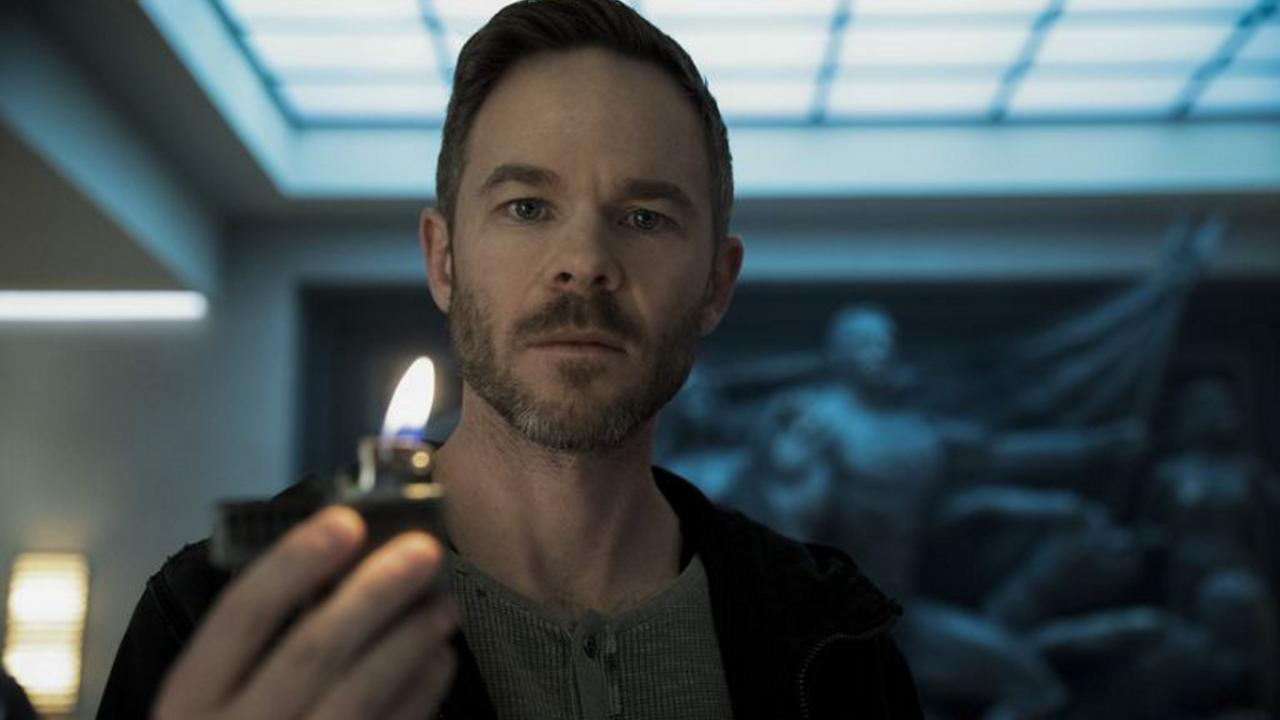BOY: (422, 1, 721, 443)
